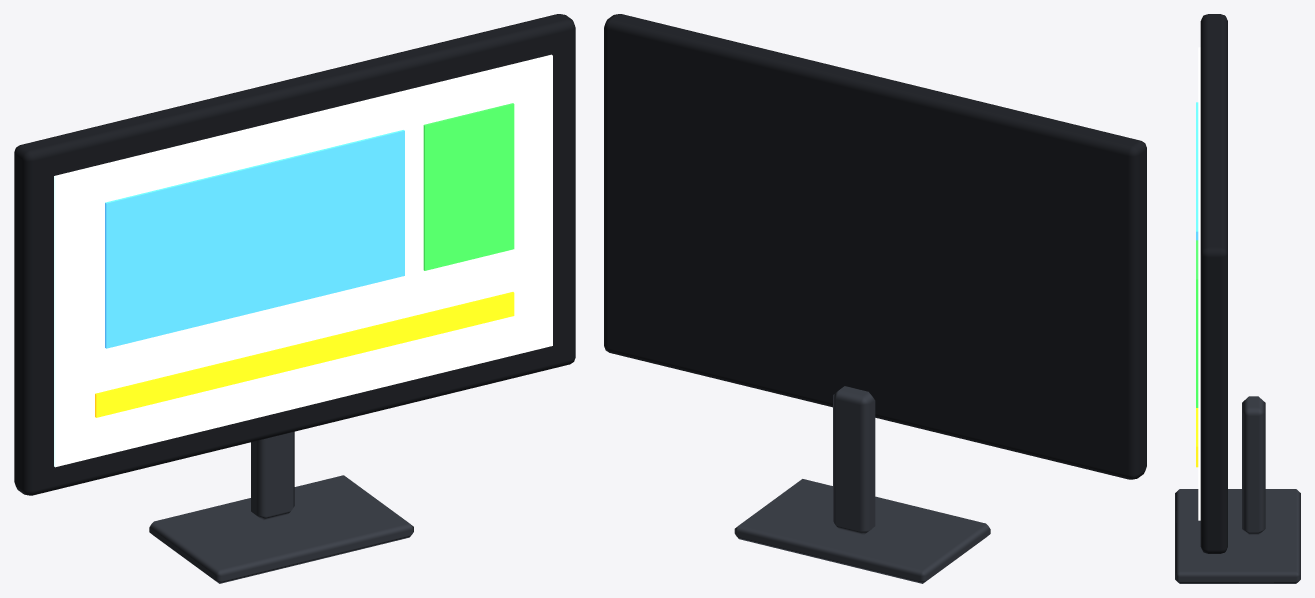
Rendered from station_processing_ausstattung_1_2.glb.
3 views of the same model, side by side, from view 1: azimuth 30°, elevation 25°; view 2: azimuth 150°, elevation 25°; view 3: azimuth 270°, elevation 25° (orthographic). The views are drawn at different scales.
Visible parts, largest first — view 1: station_processing_ausstattung_1_2; view 2: station_processing_ausstattung_1_2; view 3: station_processing_ausstattung_1_2.
Boxes of the visible parts, bbox=[...] form: station_processing_ausstattung_1_2: bbox=[14, 14, 575, 583]; station_processing_ausstattung_1_2: bbox=[604, 14, 1146, 583]; station_processing_ausstattung_1_2: bbox=[1175, 14, 1300, 583].
Size of the model in its own units: 0.72 by 0.578 by 0.16.
